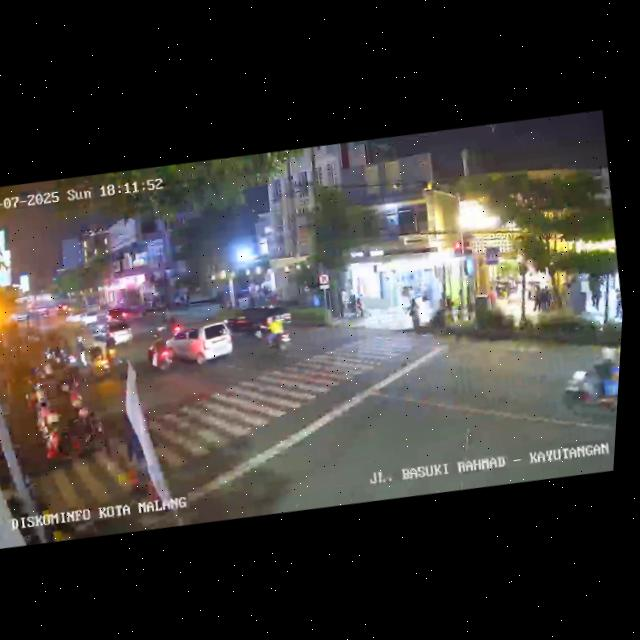car: (154, 316, 240, 376), (88, 315, 137, 352)
motorcycle: (554, 343, 621, 427), (256, 311, 296, 359), (141, 330, 179, 379), (86, 340, 115, 384)
person: (405, 297, 423, 332), (536, 282, 554, 314), (527, 283, 543, 316), (610, 285, 624, 322)
